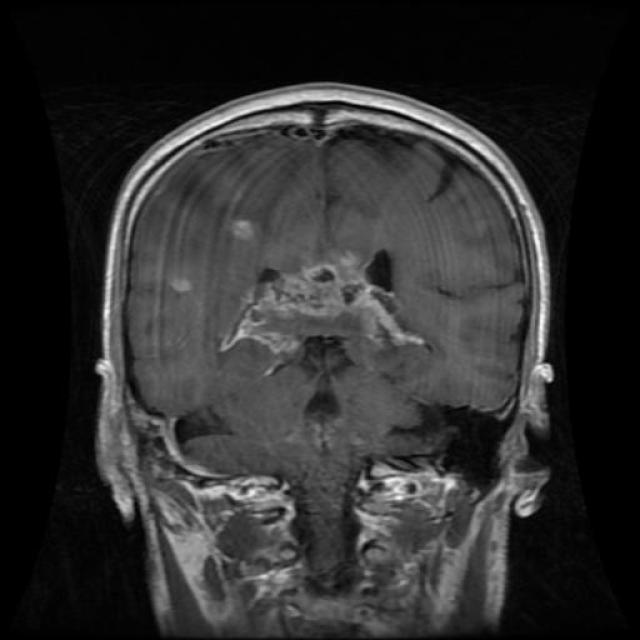glioma: (220, 252, 432, 372)
